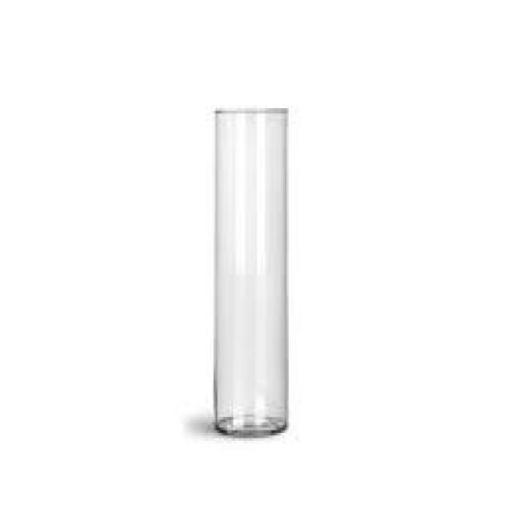glass: (198, 94, 299, 454)
